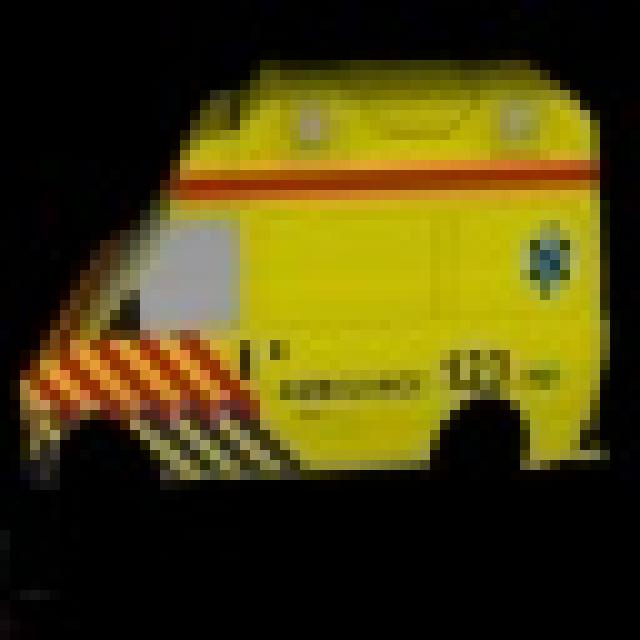Ambulance: (10, 50, 610, 480)
